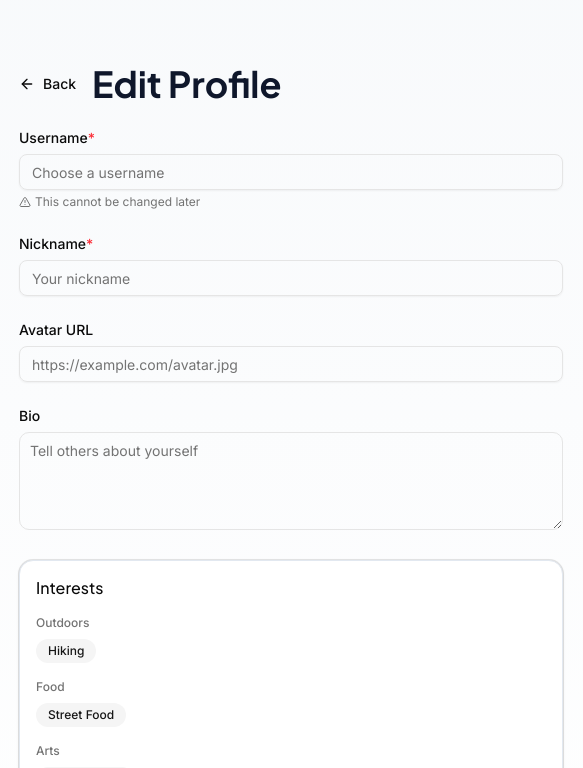
Test: EditProfilePage › shows validation errors from server (422)
This screenshot has width=583, height=768.
Step 1. Type "testuser" into the field with placeholder "Choose a username" → (291, 172), box [19,154,563,190]
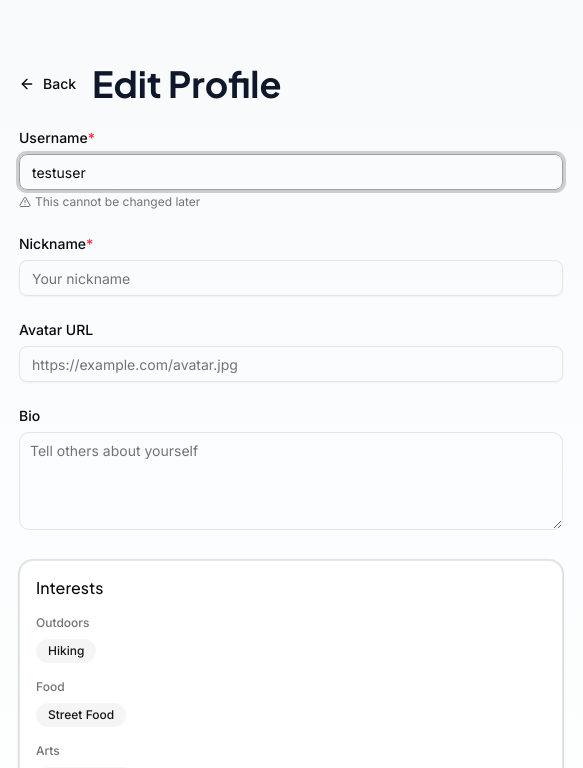
Step 2. Type "AB" into the field with placeholder "Your nickname" → (291, 278), box [19,260,563,296]
(page scrolled)
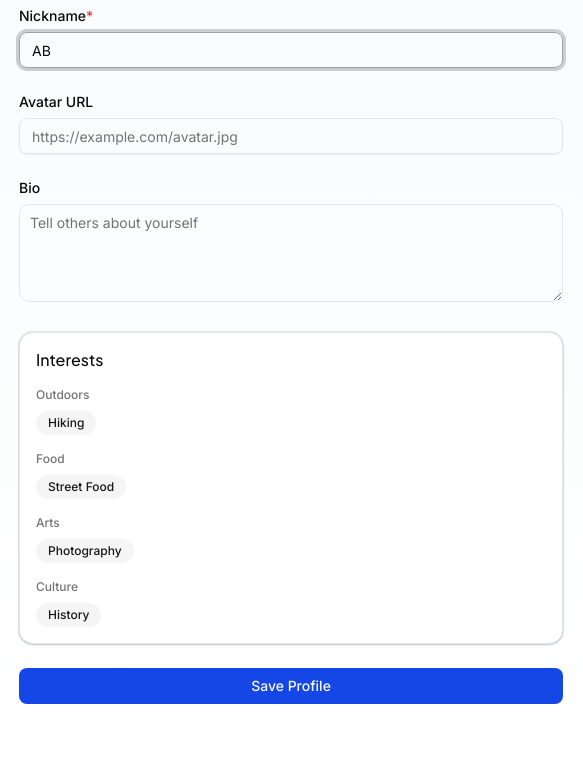
Step 3. Click the button "Save Profile" → (291, 686), box [19,668,563,704]
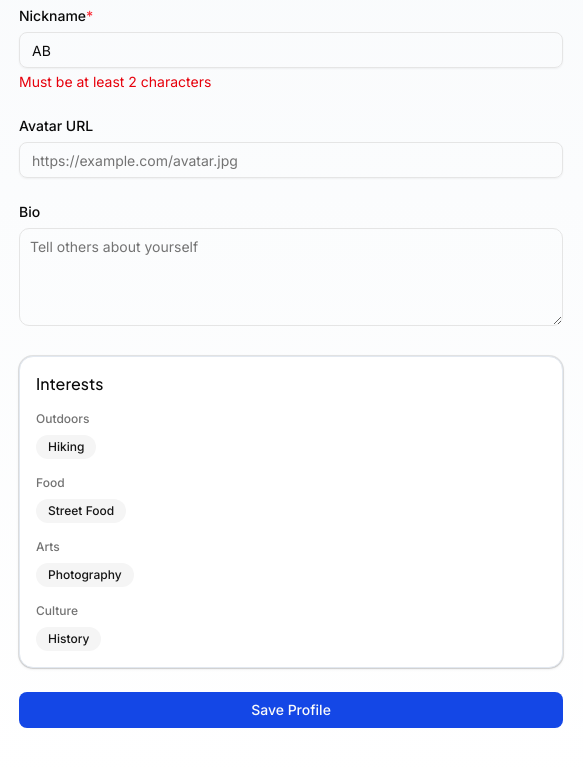
Check: the text "Must be at least 2 characters" is shown, box [19,73,211,90]
